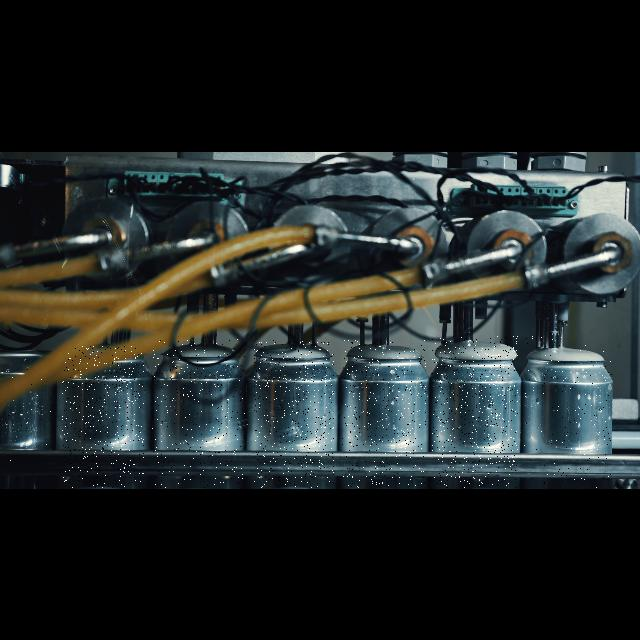empty: (62, 346, 144, 488), (0, 347, 54, 477)
full: (152, 338, 246, 488), (524, 336, 612, 488), (432, 336, 518, 488), (342, 340, 426, 488), (254, 340, 334, 488)
